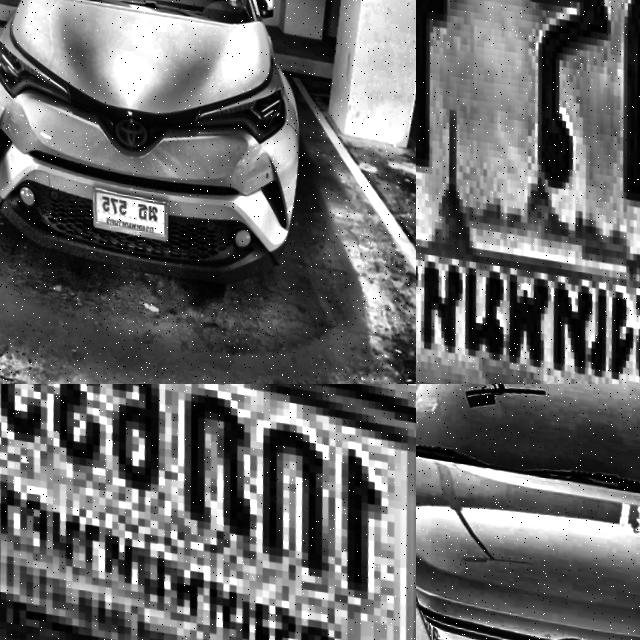license-plate: (0, 384, 416, 640), (416, 0, 640, 384), (78, 177, 168, 237)
